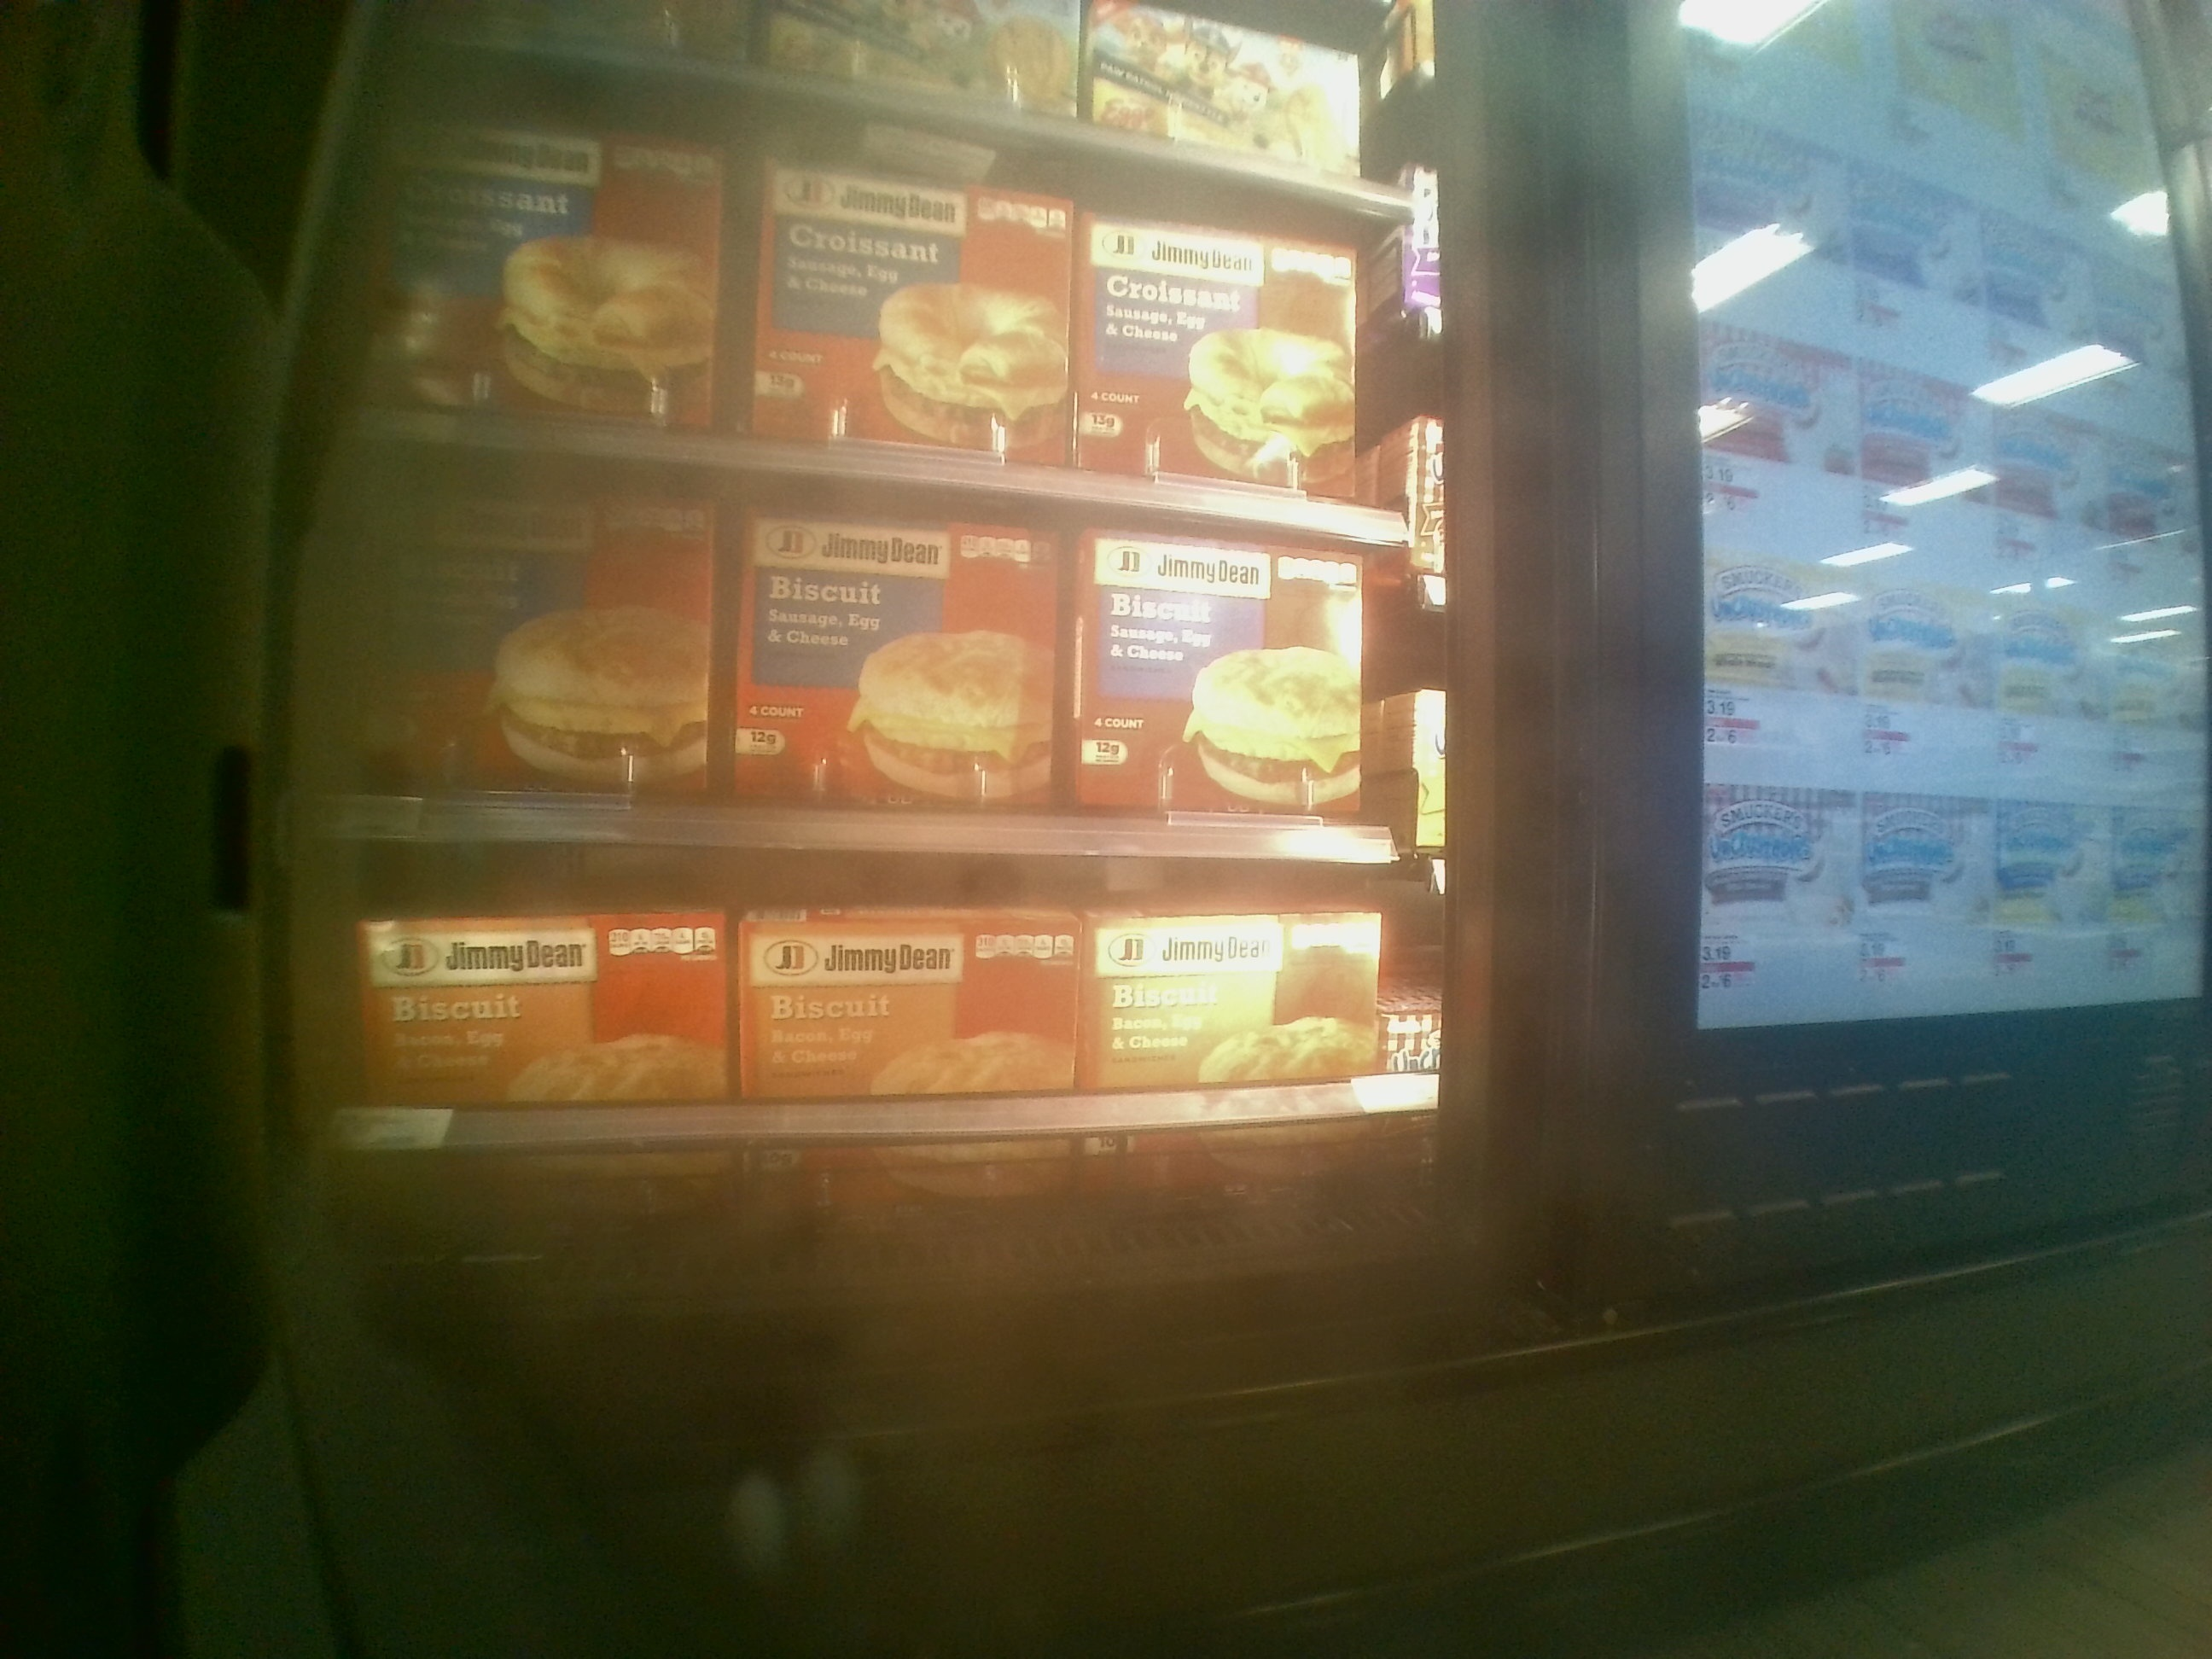shelf: (307, 833, 1465, 1159)
